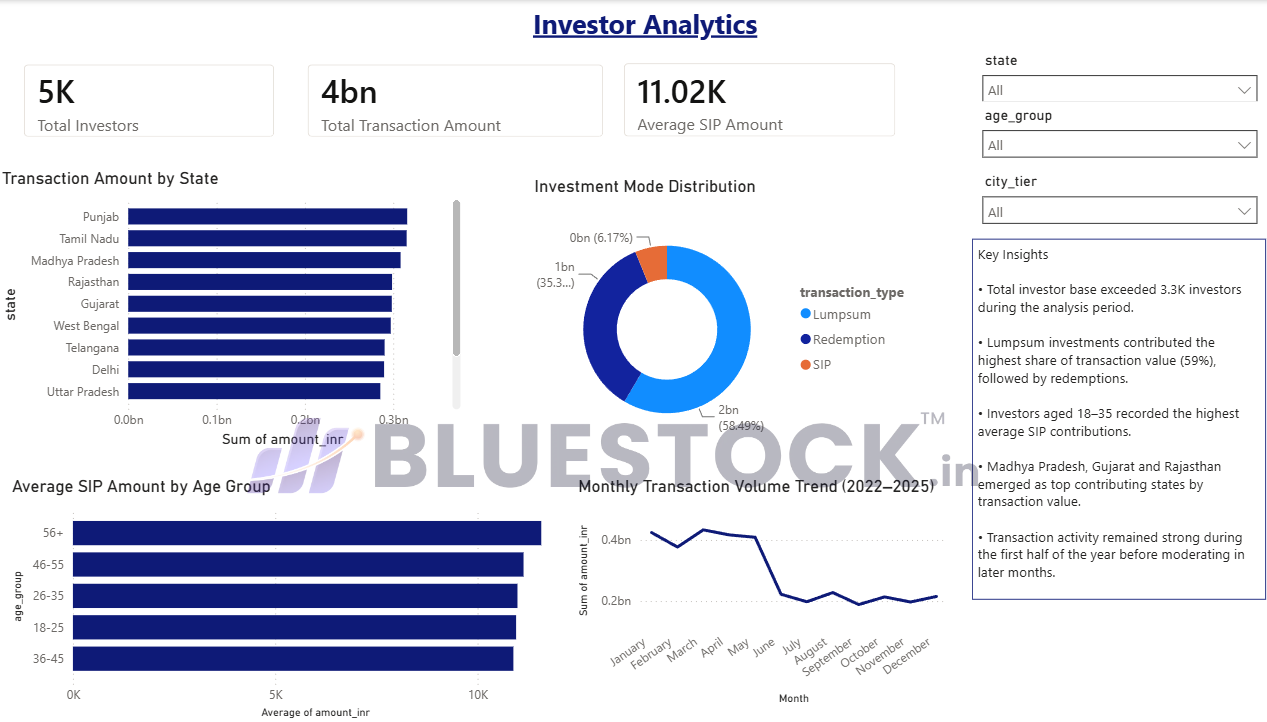

This screenshot's page, from the dashboard's own definition file:
{"tool":"powerbi","page":{"name":"Investor analytics","canvas":[1280,720],"ordinal":2},"visuals":[{"type":"textbox","box":[10,0,1270.1,52.2],"z":0},{"type":"clusteredBarChart","title":"Transaction Amount by State","fields":{"Category":["clean_transactions.state"],"Y":["Sum(clean_transactions.amount_inr)"]},"box":[0,166.7,466.5,283.6],"z":1},{"type":"donutChart","title":"Investment Mode Distribution","fields":{"Category":["clean_transactions.transaction_type"],"Y":["Sum(clean_transactions.amount_inr)"]},"box":[529.9,175.4,393.1,286.1],"z":2},{"type":"clusteredBarChart","title":"Average SIP Amount by Age Group","fields":{"Category":["clean_transactions.age_group"],"Y":["Avg(clean_transactions.amount_inr)"]},"box":[10,474,564,246],"z":3},{"type":"lineChart","title":"Monthly Transaction Volume Trend (2022–2025)","fields":{"Y":["Sum(clean_transactions.amount_inr)"],"Category":["clean_transactions.transaction_date.Variation.Date Hierarchy.Month"]},"box":[573.5,473.9,376.9,232.6],"z":4},{"type":"cardVisual","fields":{"Data":["Count(clean_transactions.investor_id)"]},"box":[9.4,47.2,283,106.5],"z":5},{"type":"cardVisual","fields":{"Data":["Sum(clean_transactions.amount_inr)"]},"box":[292.4,47.2,328.8,106.5],"z":6},{"type":"cardVisual","fields":{"Data":["Avg(clean_transactions.amount_inr)"]},"box":[606.4,45.8,304.6,107.8],"z":7},{"type":"slicer","fields":{"Values":["clean_transactions.state"]},"box":[970.3,45.8,293.8,87.6],"z":8},{"type":"slicer","fields":{"Values":["clean_transactions.age_group"]},"box":[970.3,101.1,293.8,83.6],"z":9},{"type":"slicer","fields":{"Values":["clean_transactions.city_tier"]},"box":[970.3,167.1,293.8,71.4],"z":10},{"type":"textbox","box":[970.3,237.6,293.6,359.5],"z":11},{"type":"image","box":[246.3,379.4,736.4,141.8],"z":12}]}

Visuals, with their boxes in screenshot pixels (x1, y1, x2, y2), scaled from the page's 1280x720 canvas onto the 1267x722 screenshot:
textbox: [left=10, top=0, right=1266, bottom=52]
"Transaction Amount by State" clusteredBarChart: [left=0, top=167, right=462, bottom=452]
"Investment Mode Distribution" donutChart: [left=525, top=176, right=914, bottom=463]
"Average SIP Amount by Age Group" clusteredBarChart: [left=10, top=475, right=568, bottom=721]
"Monthly Transaction Volume Trend (2022–2025)" lineChart: [left=568, top=475, right=941, bottom=708]
cardVisual - Count(clean_transactions.investor_id): [left=9, top=47, right=289, bottom=154]
cardVisual - Sum(clean_transactions.amount_inr): [left=289, top=47, right=615, bottom=154]
cardVisual - Avg(clean_transactions.amount_inr): [left=600, top=46, right=902, bottom=154]
slicer - clean_transactions.state: [left=960, top=46, right=1251, bottom=134]
slicer - clean_transactions.age_group: [left=960, top=101, right=1251, bottom=185]
slicer - clean_transactions.city_tier: [left=960, top=168, right=1251, bottom=239]
textbox: [left=960, top=238, right=1251, bottom=599]
image: [left=244, top=380, right=973, bottom=523]
